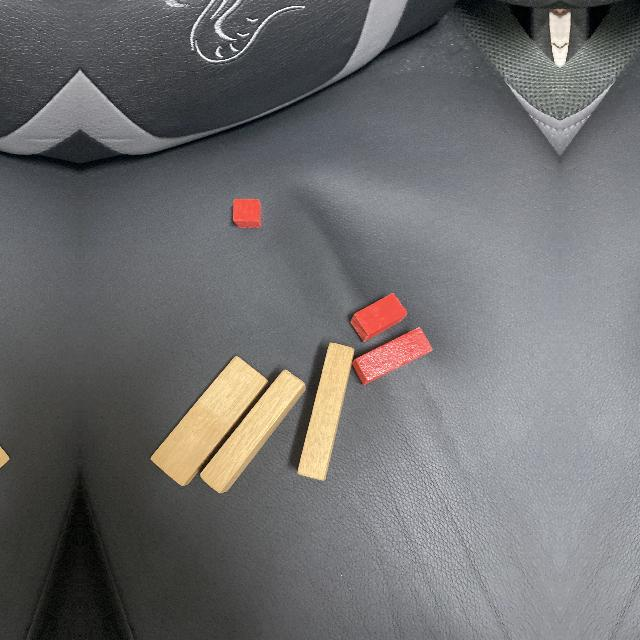jenga: (151, 357, 268, 487), (200, 370, 305, 494), (297, 343, 355, 482)
red block: (352, 328, 432, 385), (350, 293, 407, 342)
red cube: (233, 200, 260, 227)
